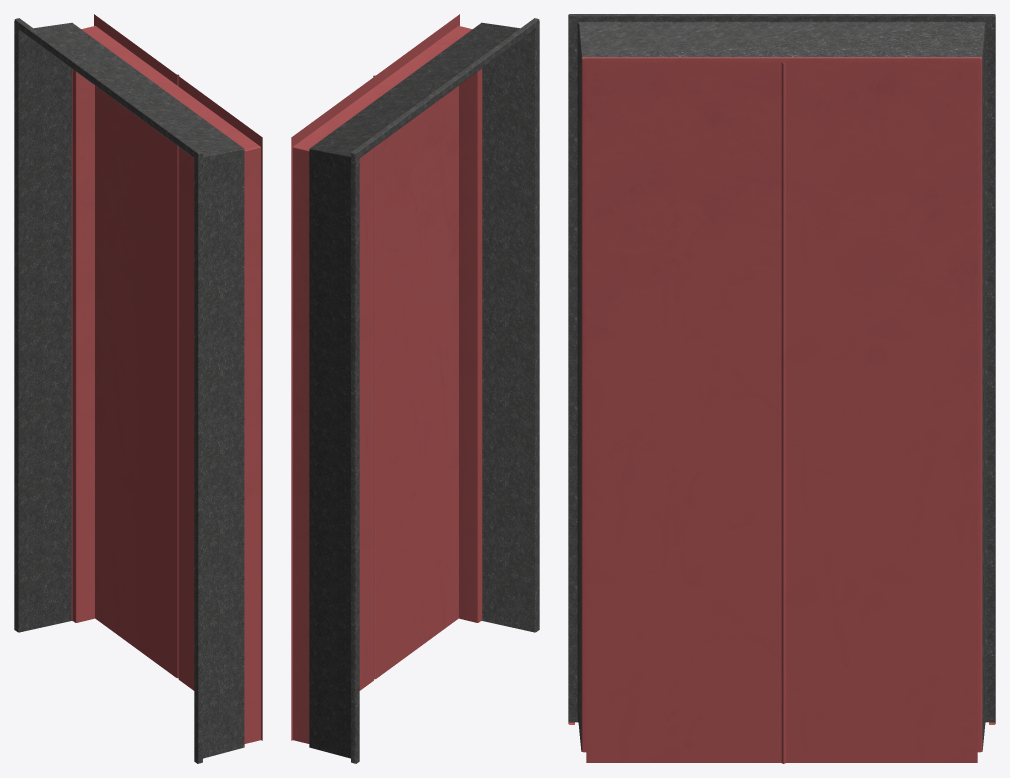
File: SM_ElevatorDoor_01.fbx
3 renders of one model, left to right at view 1: azimuth 30°, elevation 25°; view 2: azimuth 150°, elevation 25°; view 3: azimuth 270°, elevation 25°, orthographic. The views are drawn at different scales.
Parts seen in each view (by area): view 1: SM_ElevatorDoor_01_LOD0; view 2: SM_ElevatorDoor_01_LOD0; view 3: SM_ElevatorDoor_01_LOD0.
Part boxes in pixels (<box>): SM_ElevatorDoor_01_LOD0: <box>14,14,262,763</box>; SM_ElevatorDoor_01_LOD0: <box>291,14,539,763</box>; SM_ElevatorDoor_01_LOD0: <box>568,14,995,763</box>.
Bounding box in the file's own units: 30.32 × 131 × 240.
